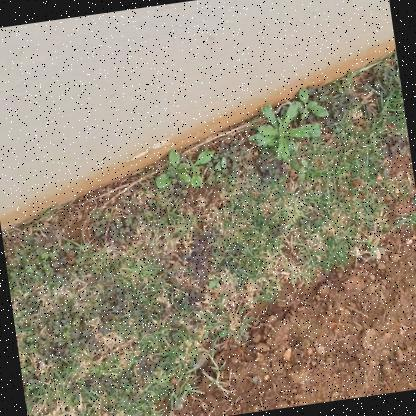Weeds: (247, 95, 326, 165), (176, 147, 220, 191), (150, 146, 192, 192), (293, 82, 330, 122)
